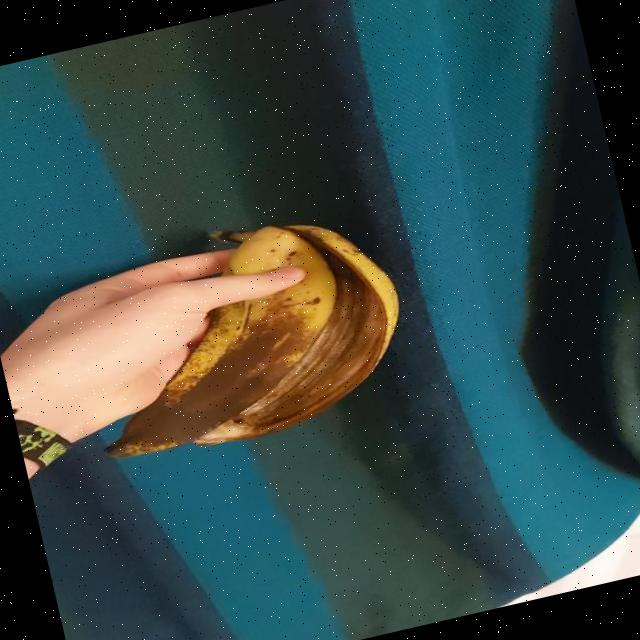banana-peel: (59, 190, 422, 472)
